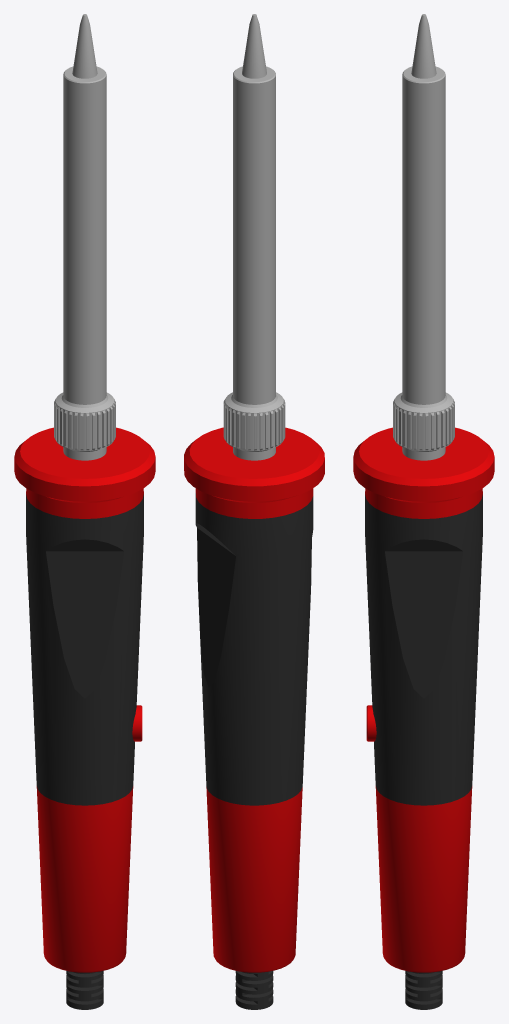
File: Soldering Iron.fbx
The picture shows the model from 3 angles, left to right: view 1: azimuth 90°, elevation 25°; view 2: azimuth 210°, elevation 25°; view 3: azimuth 270°, elevation 25°; orthographic projection.
Parts seen in each view (by area): view 1: Soldering Iron; view 2: Soldering Iron; view 3: Soldering Iron.
Boxes of the visible parts, x1=… form: Soldering Iron: x1=14, y1=14, x2=155, y2=1009; Soldering Iron: x1=184, y1=14, x2=324, y2=1009; Soldering Iron: x1=353, y1=14, x2=494, y2=1009.
Bounding box in the file's own units: 40.02 × 309 × 40.02.
